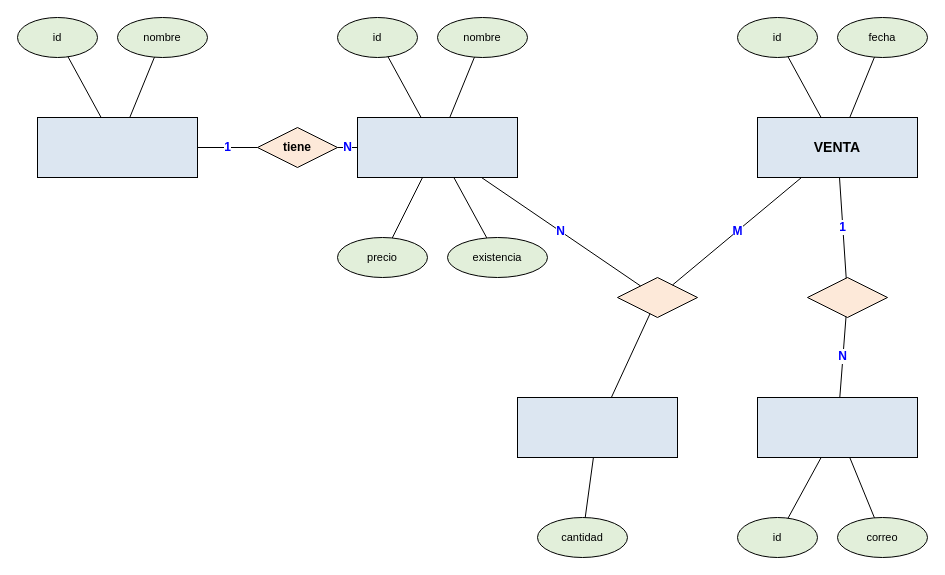
The diagram is 945 pixels wide and 575 high, and some of its shapes have lost their labels. The shapes that lost their labels are listed below. From the top down, each one's centre as x and y in pixels, then its label:
(x=117, y=147): CATEGORIA
(x=437, y=147): PRODUCTO
(x=657, y=297): incluye
(x=847, y=297): realiza
(x=597, y=427): DETALLE_VENTA
(x=837, y=427): CLIENTE
